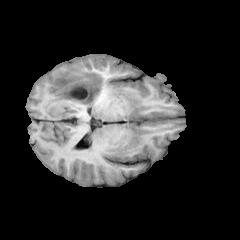glioma: (47, 68, 136, 104)
